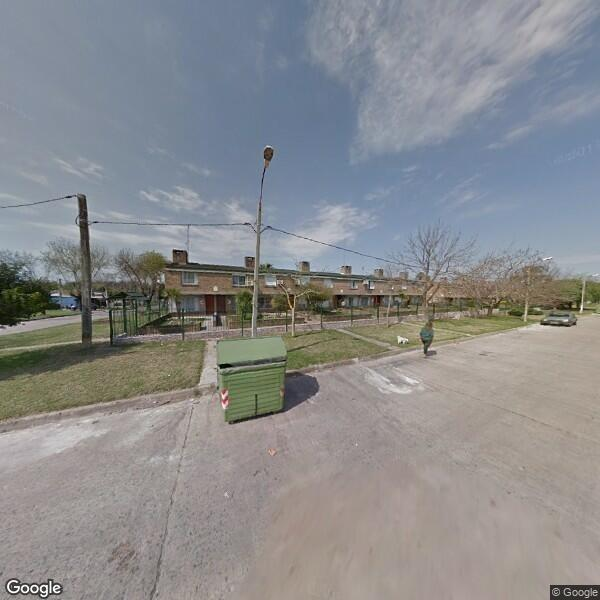Trash: (217, 336, 294, 422)
